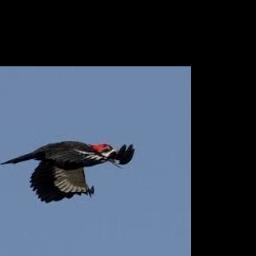Woodpecker: (0, 140, 134, 203)
